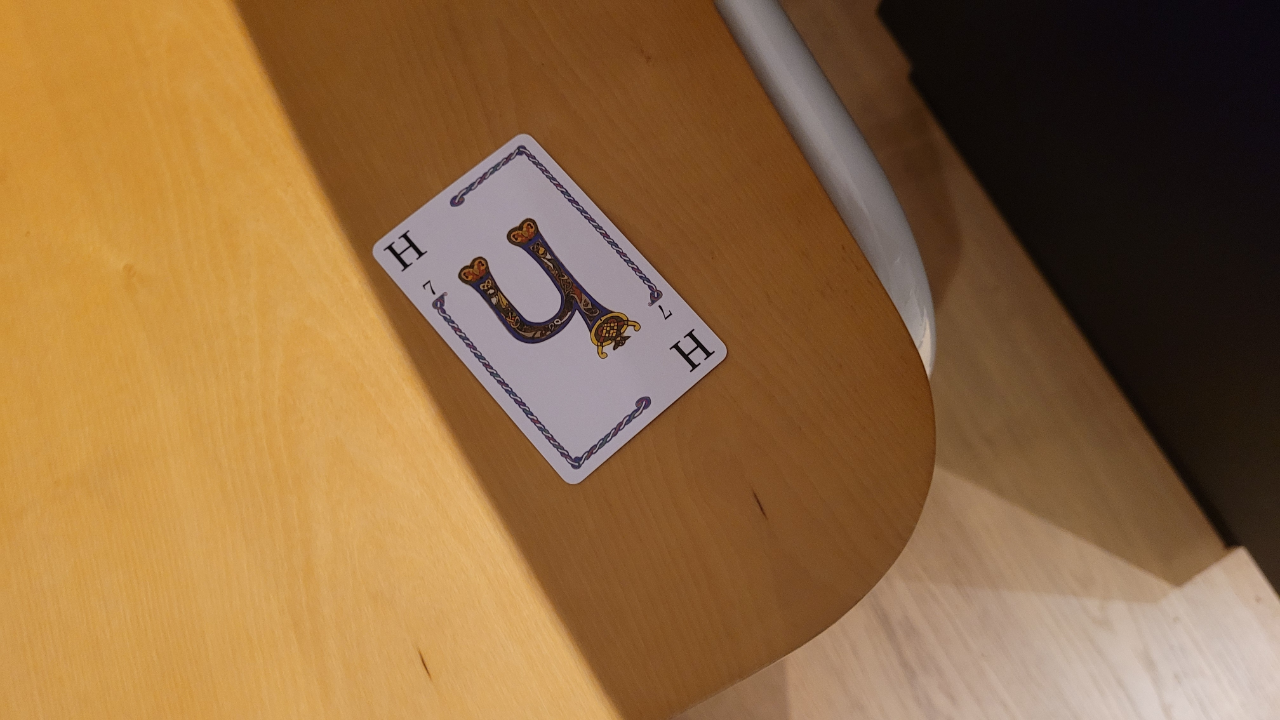quiddler_card: (357, 110, 740, 502)
